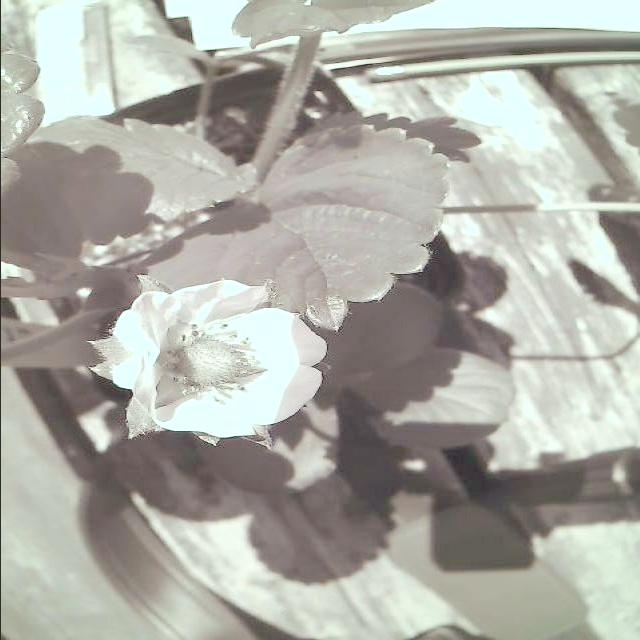flower: (98, 272, 330, 452)
